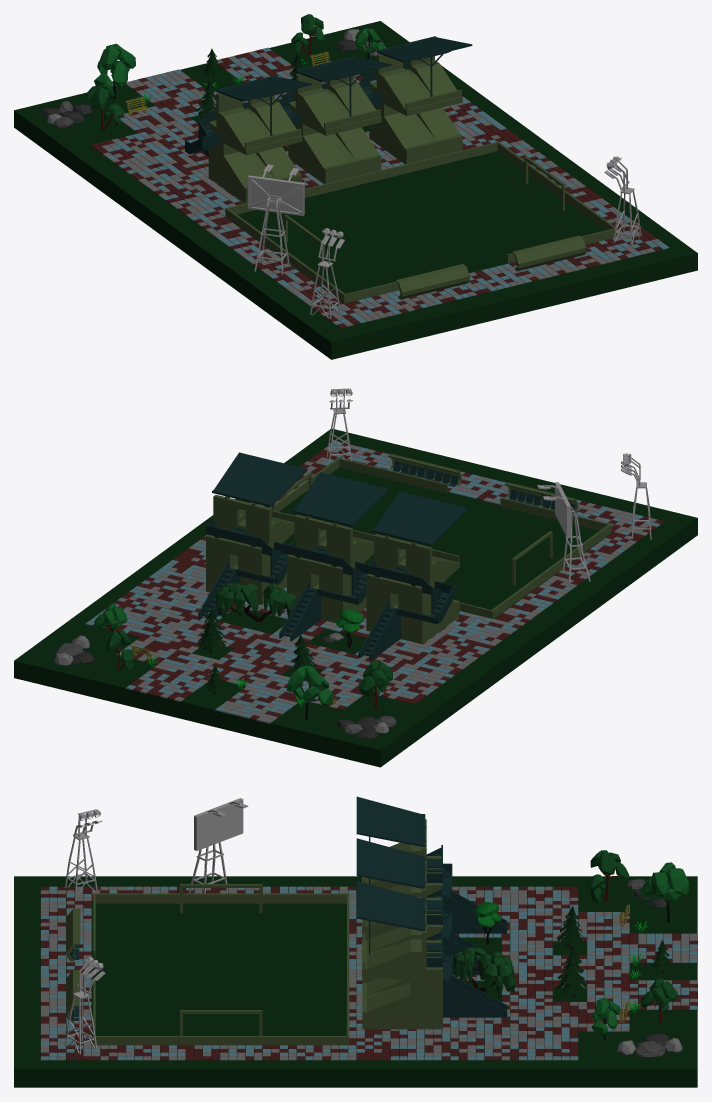
Rendered from Stadium.FBX.
The picture shows the model from 3 angles, top to bottom: view 1: azimuth 30°, elevation 25°; view 2: azimuth 150°, elevation 25°; view 3: azimuth 270°, elevation 25°; orthographic projection. The views are drawn at different scales.
Parts seen in each view (by area): view 1: Stadium; view 2: Stadium; view 3: Stadium.
Boxes of the visible parts, x1=… form: Stadium: x1=14, y1=14, x2=697, y2=359; Stadium: x1=14, y1=388, x2=697, y2=767; Stadium: x1=14, y1=796, x2=697, y2=1087.
Size of the model in its own units: 20000 by 6570 by 30013.
